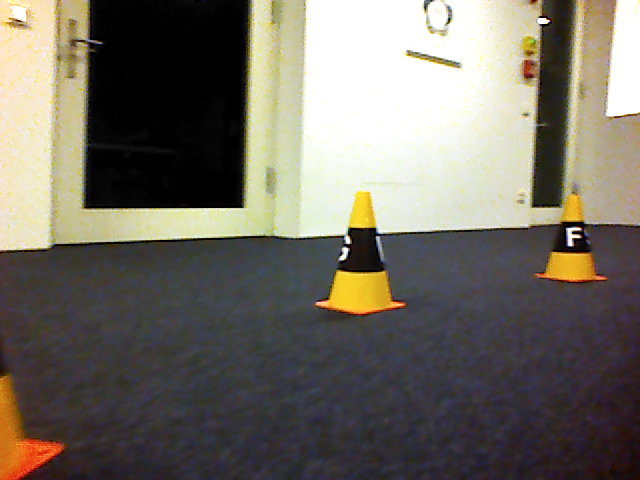yellowcone: (311, 191, 408, 318), (533, 194, 610, 284)
